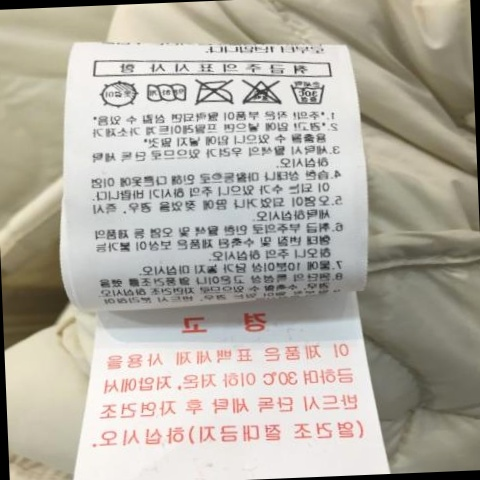DN_iron: (191, 74, 235, 107)
hand_wash: (287, 73, 329, 110)
line_dry_in_shade: (95, 76, 139, 111)
non_chlorine_bleach: (235, 71, 283, 108)
wring: (142, 79, 188, 106)
